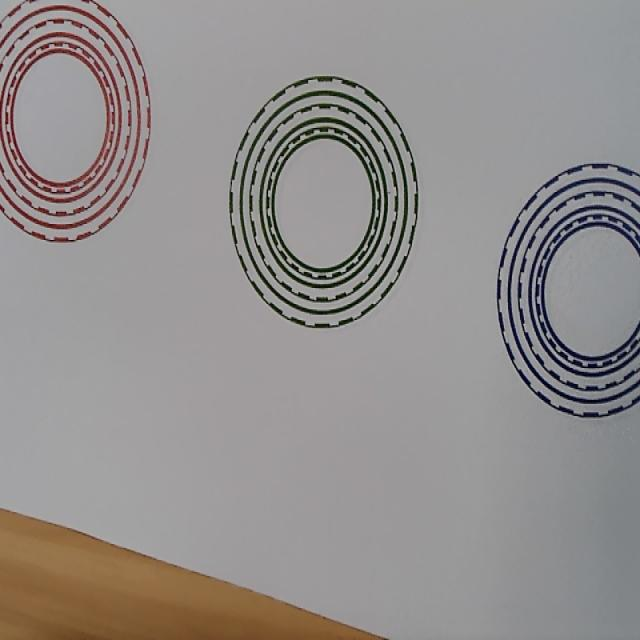g: (228, 74, 418, 327)
